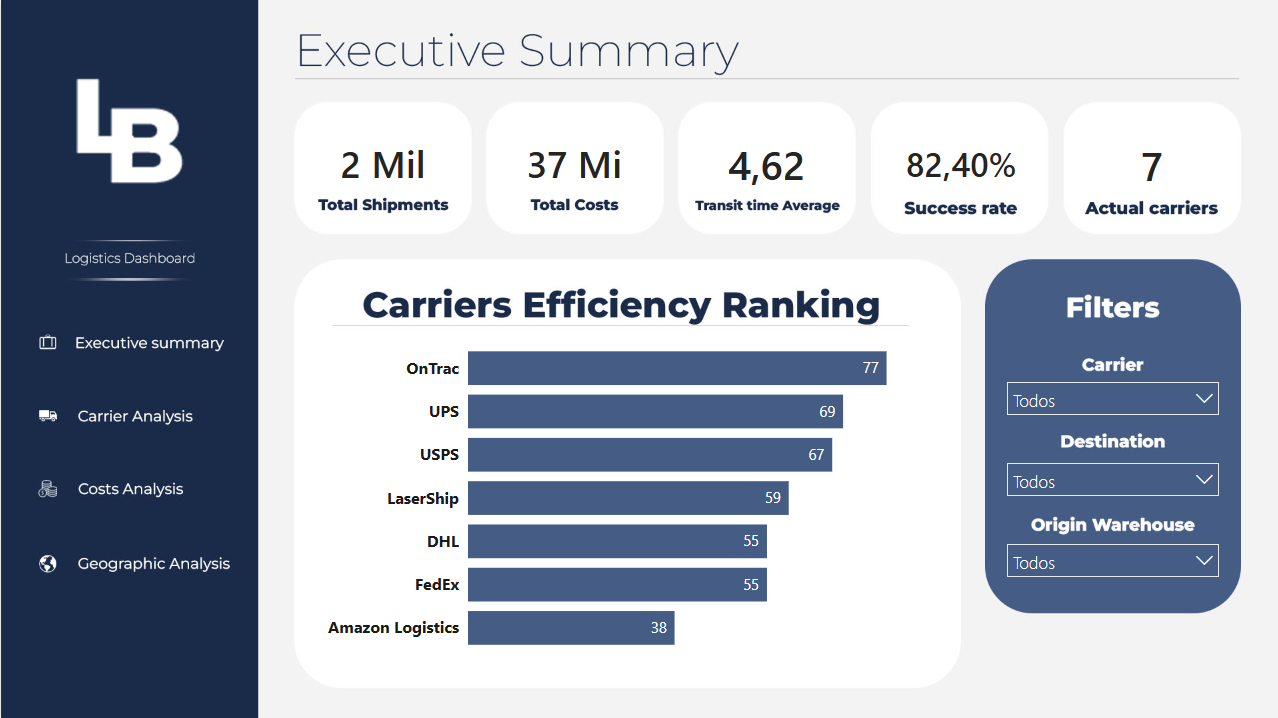

The page's visual inventory and layout, read from the dashboard file:
{"tool":"powerbi","page":{"name":"Executive Summary","canvas":[1280,720],"ordinal":0},"visuals":[{"type":"cardVisual","fields":{"Data":["CountNonNull(logistics_shipments_dataset.Shipment_ID)"]},"box":[298,107,168,109],"z":0},{"type":"cardVisual","fields":{"Data":["Sum(logistics_shipments_dataset.Cost)"]},"box":[488,90,171,143],"z":1000},{"type":"cardVisual","fields":{"Data":["Avg(logistics_shipments_dataset.Transit_Time)"]},"box":[684,98,163,128],"z":2000},{"type":"cardVisual","fields":{"Data":["logistics_shipments_dataset.Delivered_Rate"]},"box":[874,107,173,109],"z":3000},{"type":"cardVisual","fields":{"Data":["Count(logistics_shipments_dataset.Carrier)"]},"box":[1067,90,168,147],"z":4000},{"type":"barChart","fields":{"Y":["logistics_shipments_dataset.Score_Carriers"],"Category":["logistics_shipments_dataset.Carrier"]},"box":[321.1,321.1,593.3,346.7],"z":5000},{"type":"slicer","fields":{"Values":["logistics_shipments_dataset.Carrier"]},"box":[995.6,372.2,232.2,55.6],"z":6000},{"type":"slicer","fields":{"Values":["logistics_shipments_dataset.Destination"]},"box":[995.6,453.3,232.2,66.7],"z":7000},{"type":"slicer","fields":{"Values":["logistics_shipments_dataset.Origin_Warehouse"]},"box":[995.6,534.4,232.2,66.7],"z":8000},{"type":"pageNavigator","box":[21,389,218,50],"z":9000},{"type":"pageNavigator","box":[21,462,218,50],"z":10000},{"type":"pageNavigator","box":[24,540,218,50],"z":11000}]}

Visuals, with their boxes in screenshot pixels (x1, y1, x2, y2), scaled from the page's 1280x720 canvas onto the 1278x718 screenshot:
cardVisual - CountNonNull(logistics_shipments_dataset.Shipment_ID): <region>298, 107, 465, 215</region>
cardVisual - Sum(logistics_shipments_dataset.Cost): <region>487, 90, 658, 232</region>
cardVisual - Avg(logistics_shipments_dataset.Transit_Time): <region>683, 98, 846, 225</region>
cardVisual - logistics_shipments_dataset.Delivered_Rate: <region>873, 107, 1045, 215</region>
cardVisual - Count(logistics_shipments_dataset.Carrier): <region>1065, 90, 1233, 236</region>
barChart - logistics_shipments_dataset.Score_Carriers x logistics_shipments_dataset.Carrier: <region>321, 320, 913, 666</region>
slicer - logistics_shipments_dataset.Carrier: <region>994, 371, 1226, 427</region>
slicer - logistics_shipments_dataset.Destination: <region>994, 452, 1226, 519</region>
slicer - logistics_shipments_dataset.Origin_Warehouse: <region>994, 533, 1226, 599</region>
pageNavigator: <region>21, 388, 239, 438</region>
pageNavigator: <region>21, 461, 239, 511</region>
pageNavigator: <region>24, 538, 242, 588</region>
